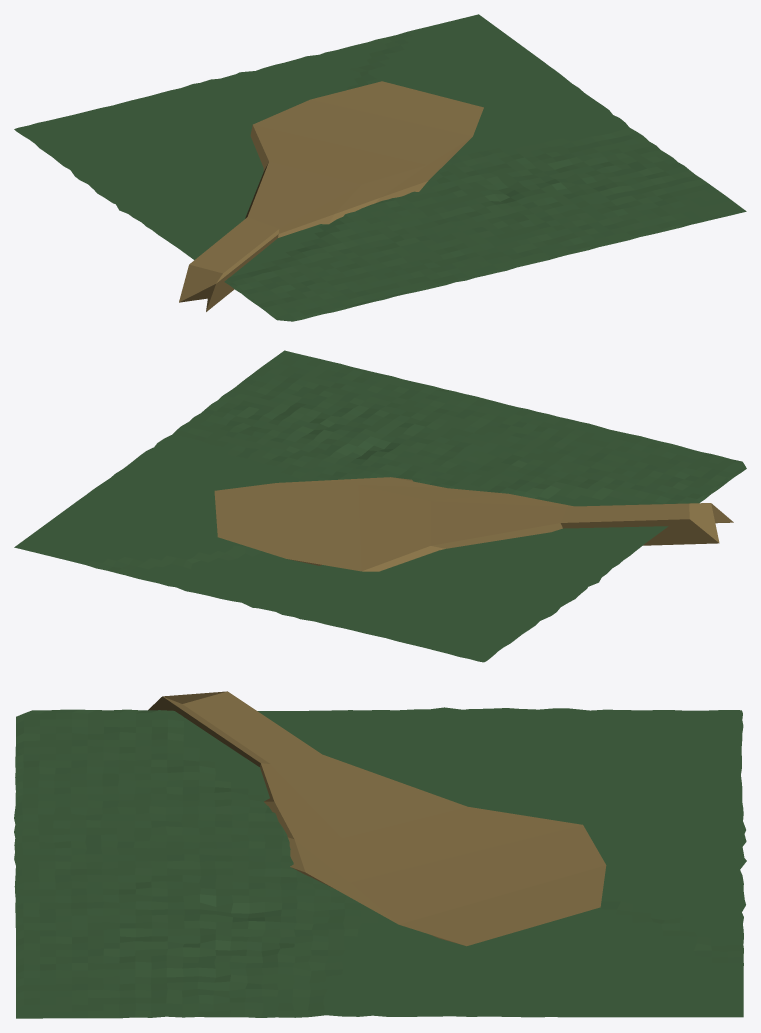
File: athili_copse_section9.glb
3 renders of one model, top to bottom at view 1: azimuth 30°, elevation 25°; view 2: azimuth 150°, elevation 25°; view 3: azimuth 270°, elevation 25°, orthographic. The views are drawn at different scales.
Visible parts, largest first — view 1: Grass, Road; view 2: Grass, Road; view 3: Grass, Road.
Part boxes in pixels (x1,y1,x2,y2): Grass: [14, 14, 746, 321]; Road: [179, 81, 483, 311]; Grass: [14, 350, 746, 662]; Road: [214, 477, 733, 571]; Grass: [14, 707, 746, 1018]; Road: [148, 691, 606, 946].
Size of the model in its own units: 63.66 by 3.66 by 59.59.
